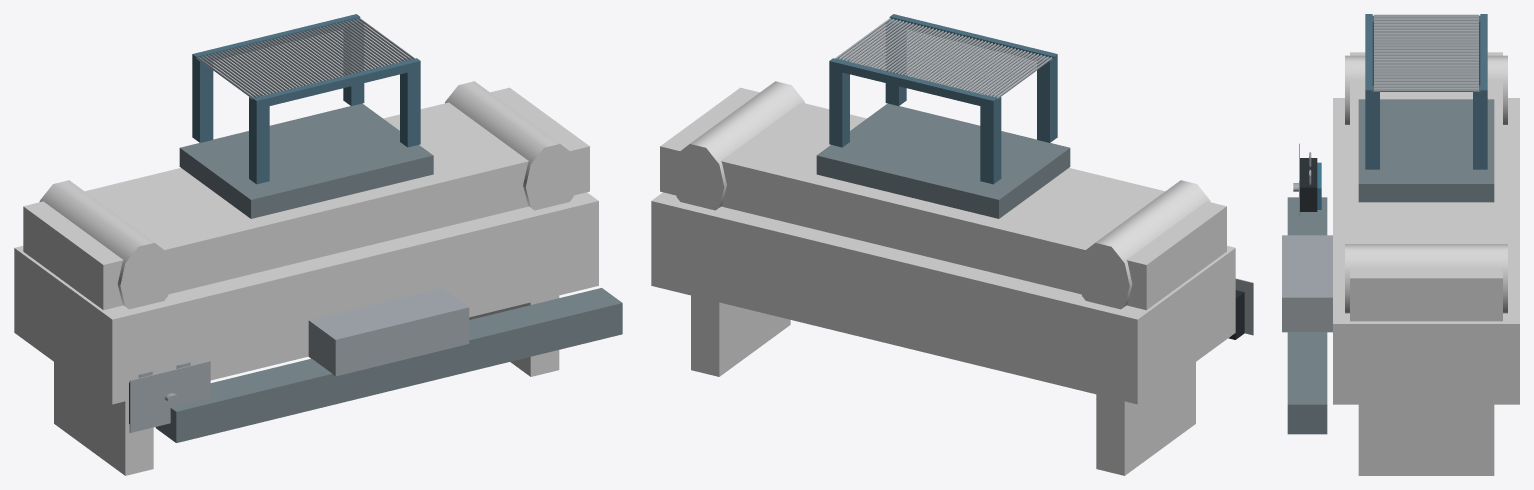
The picture shows the model from 3 angles, left to right: view 1: azimuth 30°, elevation 25°; view 2: azimuth 150°, elevation 25°; view 3: azimuth 270°, elevation 25°; orthographic projection. The views are drawn at different scales.
Parts seen in each view (by area): view 1: conveyor_frame_2, belt_1, g0.002, g0.001, g0, roller_3, roller_5, support_4, g1, g5.001, g0.004, g1.001 (+4 smaller); view 2: conveyor_frame_2, belt_1, g0.001, support_4, roller_3, roller_5, support_6, g4, g0.004, g1.001, g2.001, g5.001 (+2 smaller); view 3: conveyor_frame_2, belt_1, g0.001, support_6, g0.002, g0, roller_5, roller_3, g2.001, g3.001, g0.003, g4 (+13 smaller).
Part boxes in pixels (x1=…): conveyor_frame_2: x1=14, y1=192, x2=598, y2=404; belt_1: x1=23, y1=87, x2=589, y2=310; g0.002: x1=155, y1=288, x2=622, y2=442; g0.001: x1=179, y1=103, x2=433, y2=218; g0: x1=308, y1=287, x2=469, y2=376; roller_3: x1=39, y1=180, x2=172, y2=309; roller_5: x1=445, y1=81, x2=578, y2=210; support_4: x1=54, y1=362, x2=153, y2=475; g1: x1=129, y1=361, x2=210, y2=432; g5.001: x1=252, y1=58, x2=420, y2=105; g0.004: x1=192, y1=56, x2=213, y2=142; g1.001: x1=249, y1=94, x2=269, y2=184; conveyor_frame_2: x1=651, y1=192, x2=1235, y2=404; belt_1: x1=660, y1=87, x2=1226, y2=310; g0.001: x1=816, y1=103, x2=1070, y2=218; support_4: x1=1096, y1=362, x2=1195, y2=475; roller_3: x1=1077, y1=180, x2=1210, y2=309; roller_5: x1=671, y1=81, x2=804, y2=210; support_6: x1=691, y1=295, x2=790, y2=376; g4: x1=829, y1=58, x2=997, y2=108; g0.004: x1=980, y1=94, x2=1001, y2=184; g1.001: x1=1037, y1=56, x2=1057, y2=142; g2.001: x1=829, y1=57, x2=849, y2=147; g5.001: x1=889, y1=14, x2=1057, y2=60; conveyor_frame_2: x1=1333, y1=98, x2=1519, y2=404; belt_1: x1=1350, y1=52, x2=1502, y2=321; g0.001: x1=1358, y1=99, x2=1494, y2=202; support_6: x1=1358, y1=404, x2=1494, y2=475; g0.002: x1=1287, y1=197, x2=1327, y2=434; g0: x1=1282, y1=235, x2=1332, y2=332; roller_5: x1=1345, y1=244, x2=1507, y2=313; roller_3: x1=1345, y1=55, x2=1507, y2=124; g2.001: x1=1473, y1=85, x2=1487, y2=169; g3.001: x1=1365, y1=85, x2=1379, y2=169; g0.003: x1=1300, y1=158, x2=1317, y2=211; g4: x1=1480, y1=14, x2=1487, y2=97.
Bounding box in the file's own units: 3.6 × 2.4 × 1.6.
